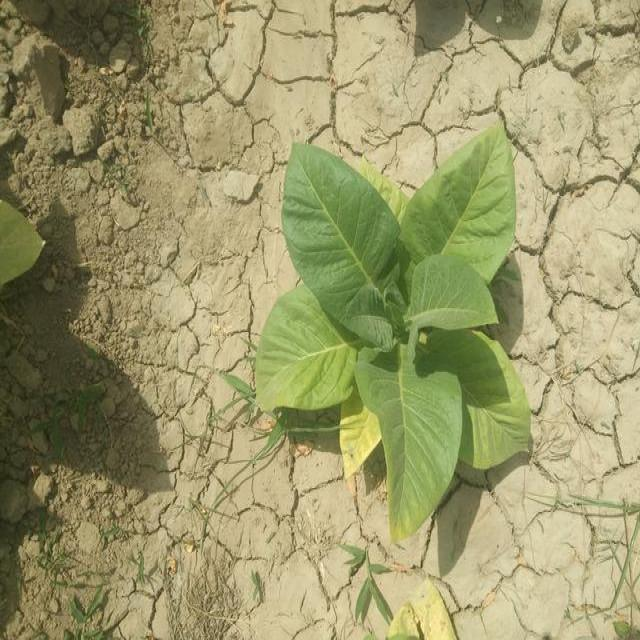crop: (270, 136, 532, 525), (380, 573, 462, 640), (0, 188, 40, 294)
